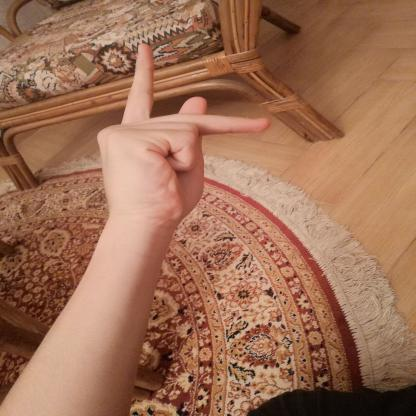DHAA: (85, 35, 283, 236)
